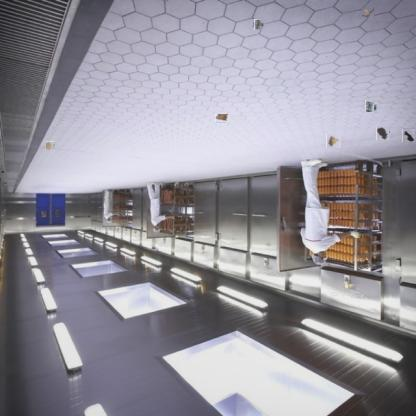dirty: (327, 134, 341, 149), (402, 128, 415, 142), (362, 8, 374, 18), (365, 101, 375, 112), (215, 114, 228, 122), (253, 20, 262, 29)
liquid: (376, 127, 390, 140), (46, 141, 55, 150)
